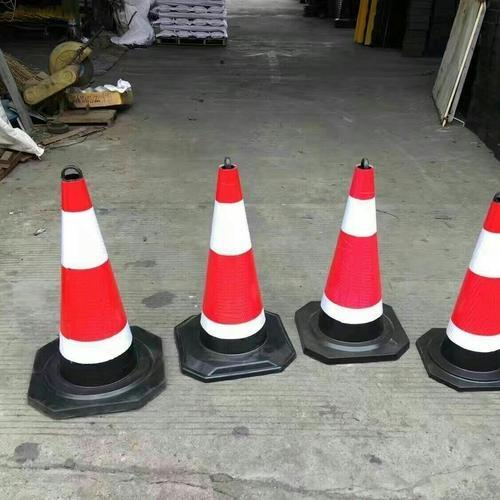cone_barrel: (43, 166, 147, 394), (186, 156, 280, 363), (307, 156, 396, 345), (432, 188, 498, 385)
